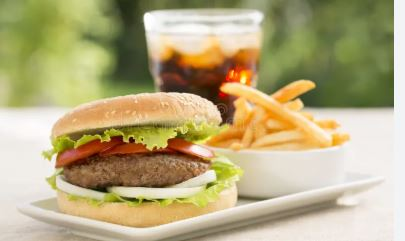burger: (52, 98, 251, 220)
chips: (217, 78, 347, 161)
